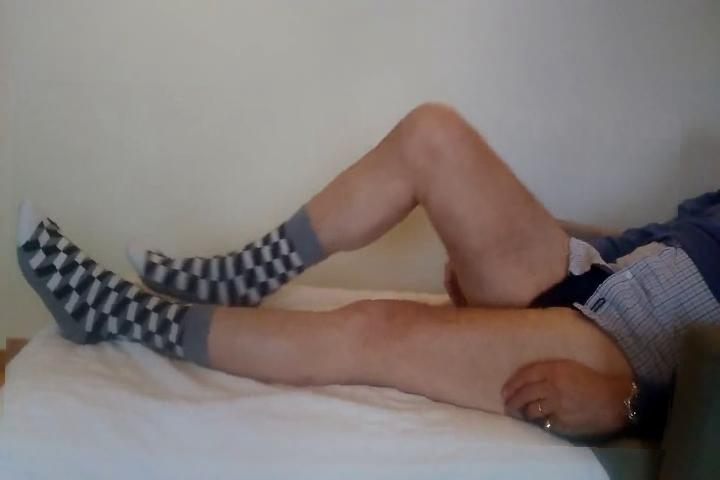lower_body: (7, 86, 680, 446)
